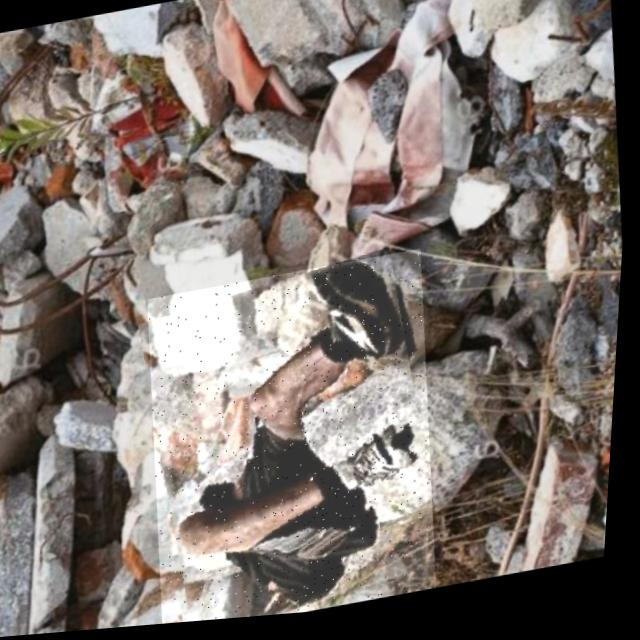Person in Rubble: (135, 252, 459, 629)
